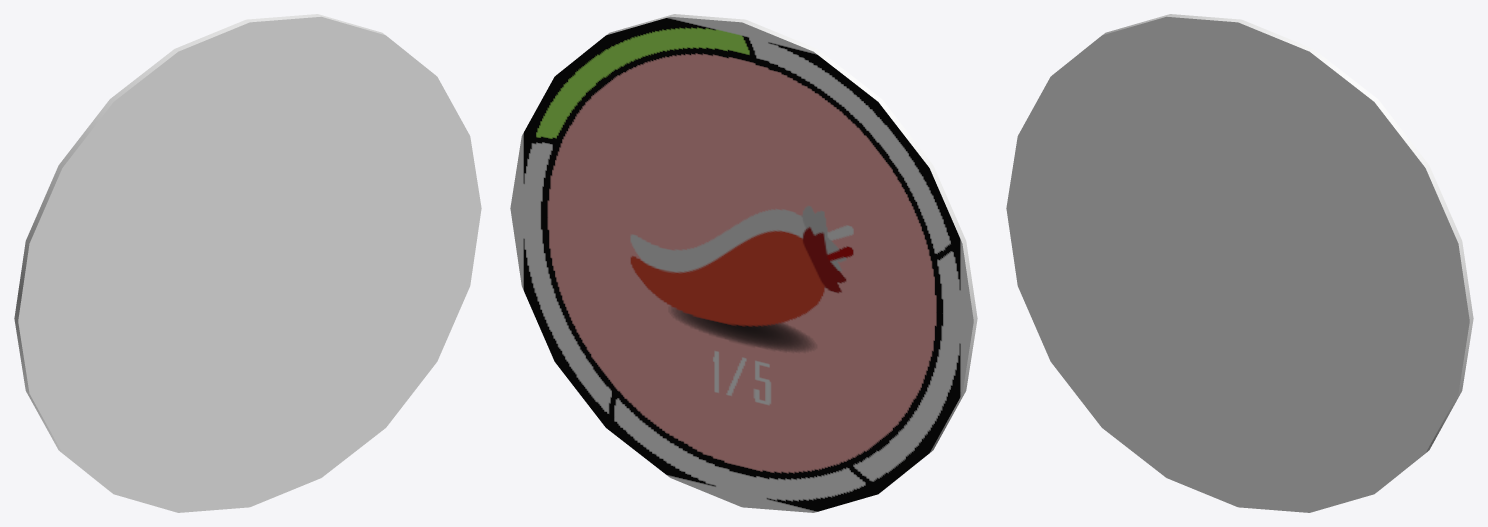
The model's file is pepper_model.fbx.
3 views of the same model, side by side, from view 1: azimuth 30°, elevation 25°; view 2: azimuth 150°, elevation 25°; view 3: azimuth 330°, elevation 25° (orthographic).
Visible parts, largest first — view 1: pepper_count_bubble2:pCylinder1; view 2: pepper_count_bubble2:pCylinder1; view 3: pepper_count_bubble2:pCylinder1.
Boxes of the visible parts, x1,y1,x2,y2 form: pepper_count_bubble2:pCylinder1: (14, 14, 481, 512); pepper_count_bubble2:pCylinder1: (510, 14, 977, 512); pepper_count_bubble2:pCylinder1: (1006, 14, 1473, 512).
Size of the model in its own units: 7.38 by 7.38 by 0.1045.
Materials: 1 (1 with a texture image).
